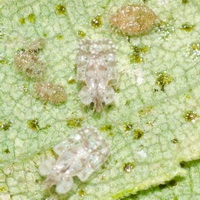insect: (39, 127, 109, 193), (76, 39, 116, 111), (110, 4, 156, 35)
